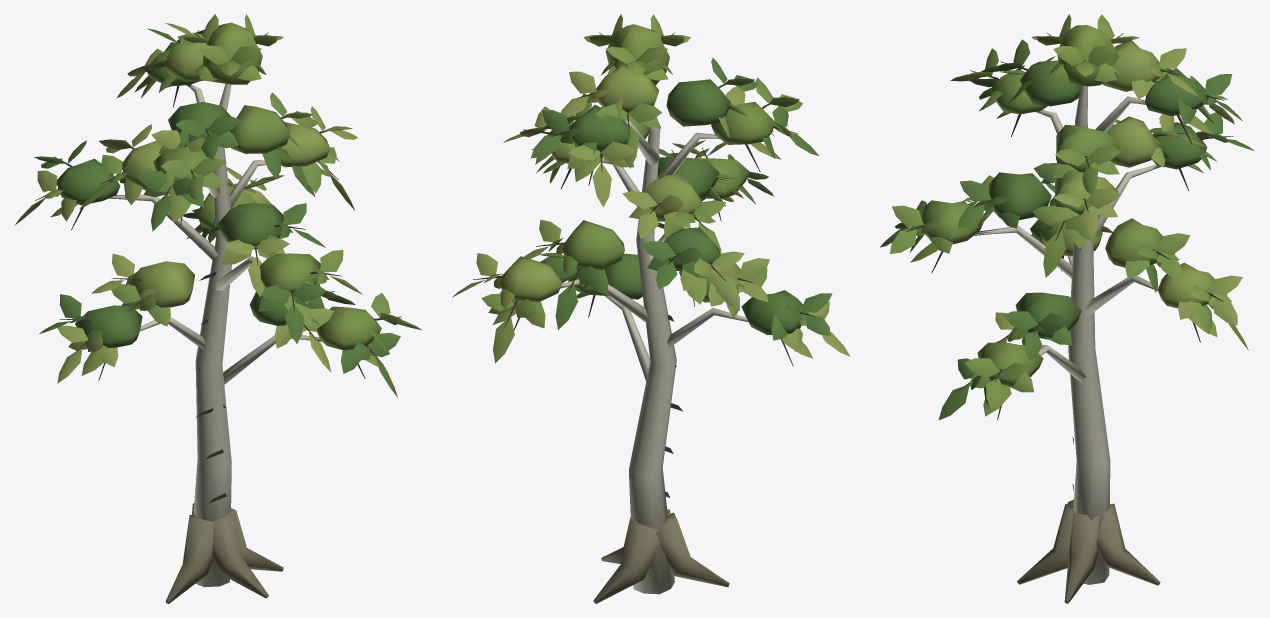
Rendered from woodland_birch_young.hi.glb.
3 views of the same model, side by side, from view 1: azimuth 30°, elevation 25°; view 2: azimuth 150°, elevation 25°; view 3: azimuth 270°, elevation 25° (orthographic).
Parts seen in each view (by area): view 1: body; view 2: body; view 3: body.
Boxes of the visible parts, <box> form: body: <box>14,14,421,603</box>; body: <box>452,14,850,603</box>; body: <box>880,14,1254,603</box>.
Size of the model in its own units: 1.99 by 3.11 by 1.89.
